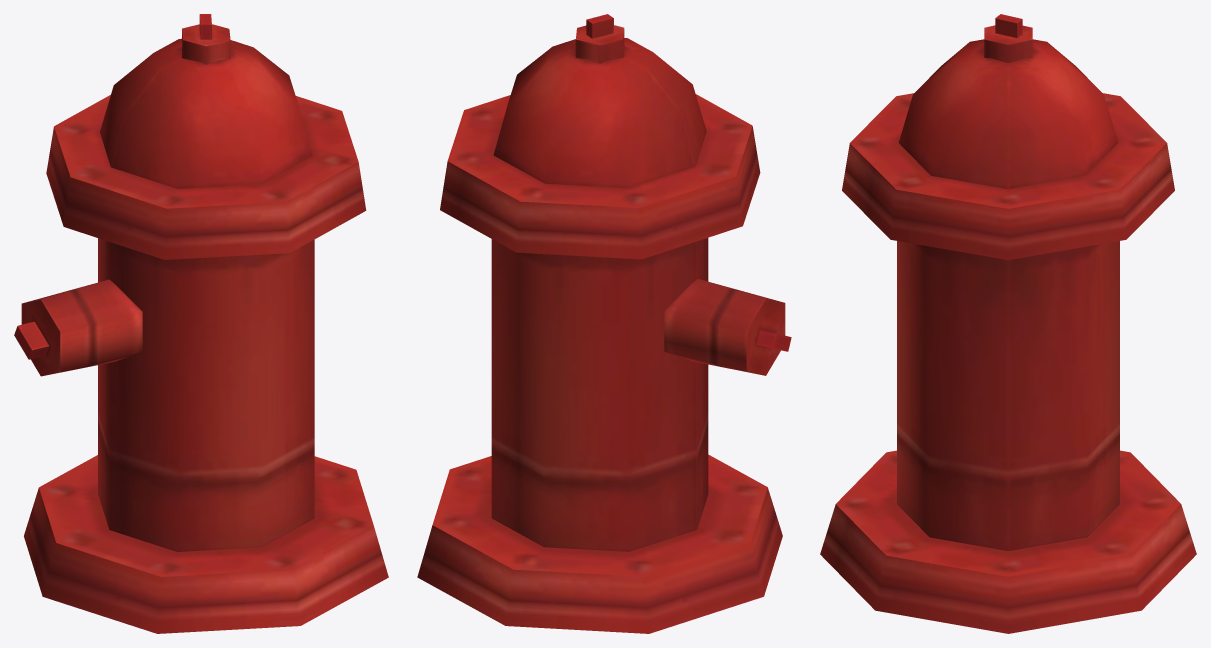
File: hydrant.obj
3 views of the same model, side by side, from view 1: azimuth 30°, elevation 25°; view 2: azimuth 150°, elevation 25°; view 3: azimuth 270°, elevation 25° (orthographic).
Parts seen in each view (by area): view 1: hydrant; view 2: hydrant; view 3: hydrant.
Part boxes in pixels (x1=…): hydrant: x1=14, y1=14, x2=388, y2=633; hydrant: x1=417, y1=14, x2=791, y2=633; hydrant: x1=820, y1=14, x2=1196, y2=633.
Bounding box in the file's own units: 0.6747 × 1 × 0.6376.
1 material, 1 textured.
